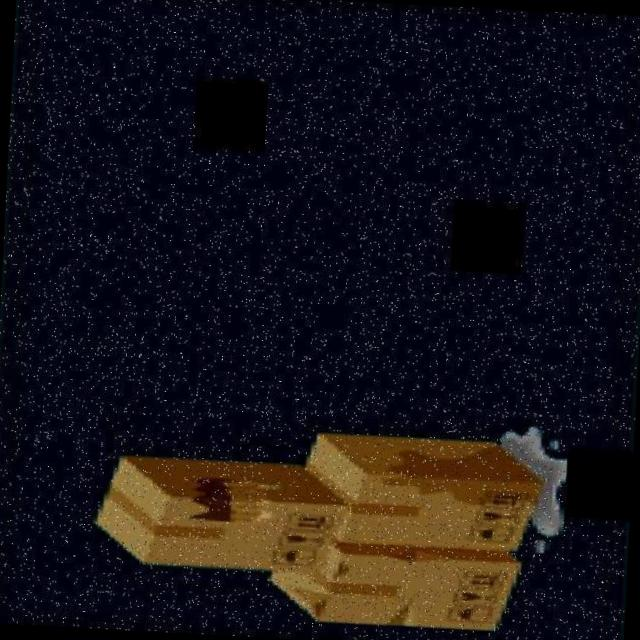box: (82, 450, 351, 585), (296, 426, 554, 557)
